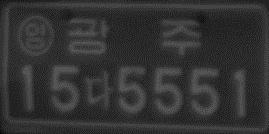1: (224, 67, 254, 119), (13, 63, 44, 113)
5: (49, 63, 82, 112), (189, 66, 221, 116), (116, 65, 147, 115), (153, 66, 184, 116)
광주_D: (67, 16, 203, 57)
다: (84, 71, 113, 111)
영: (16, 14, 55, 58)
